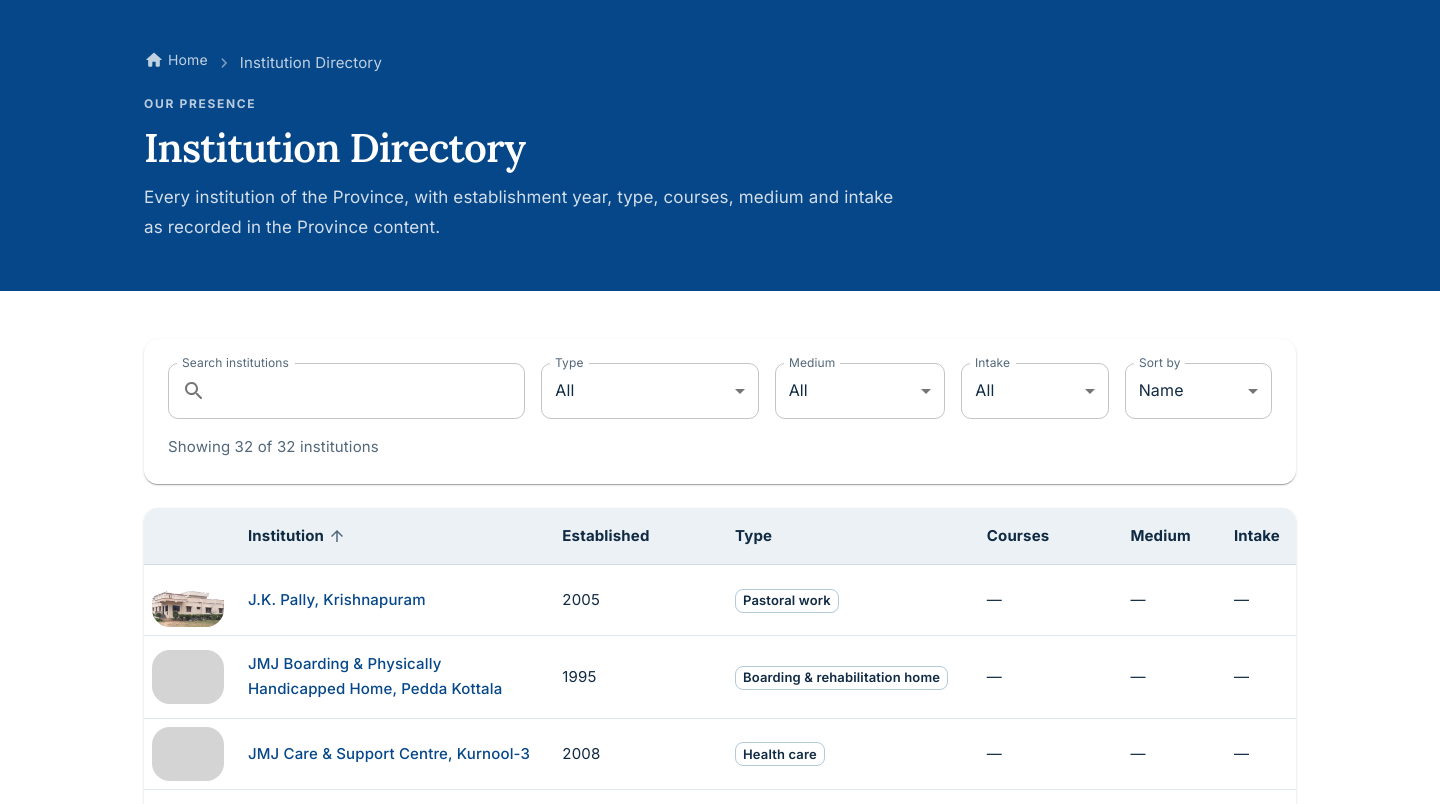
Scenario: InstitutionsPage › offers a reset once a filter is applied
Type "Kurnool" into the field labelled "Search institutions" at (370, 391), box [214, 363, 525, 419]
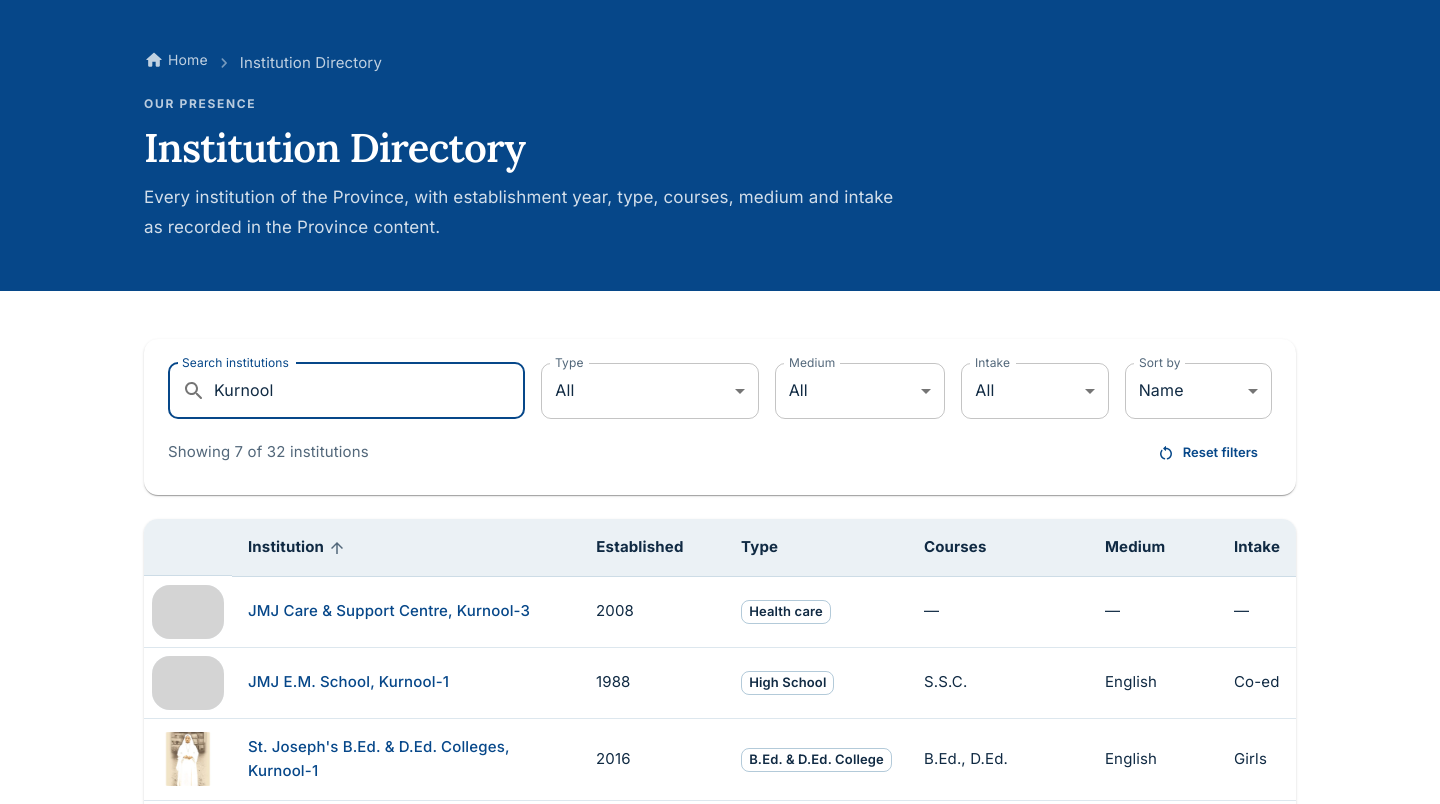
Expected: the button "Reset filters" is shown, [1145, 435, 1272, 471]
